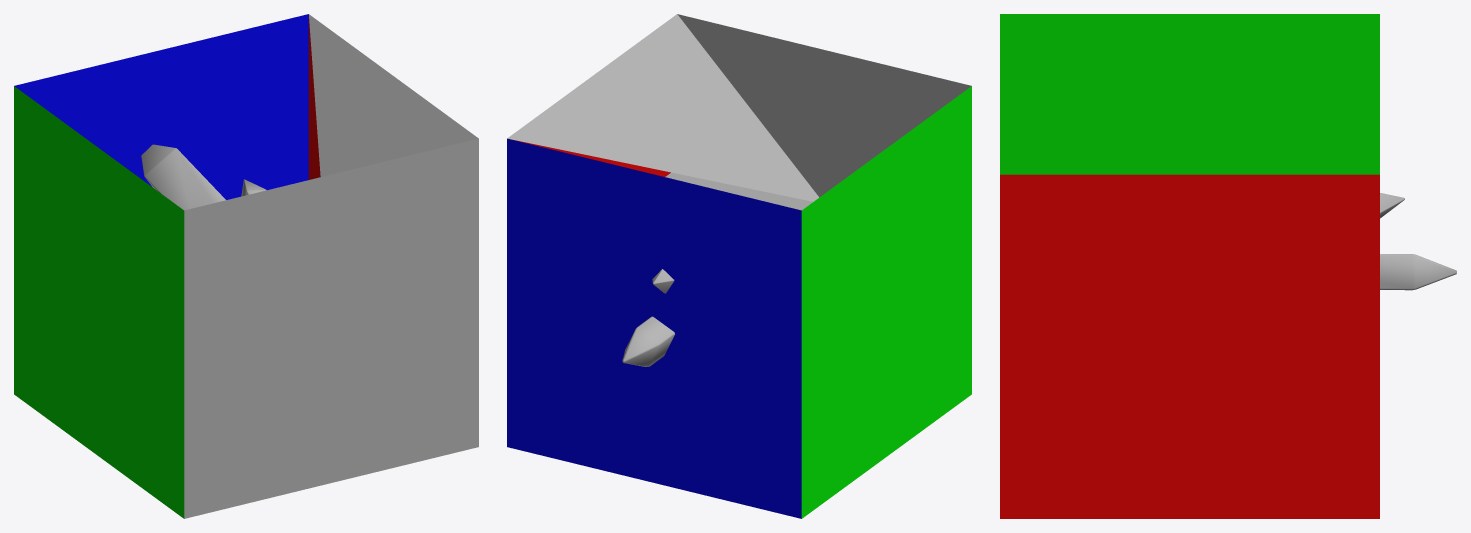
3 views of the same model, side by side, from view 1: azimuth 30°, elevation 25°; view 2: azimuth 150°, elevation 25°; view 3: azimuth 270°, elevation 25° (orthographic). The views are drawn at different scales.
Parts seen in each view (by area): view 1: back_wall, green_wall, front_wall, ceiling, object 7, red_wall; view 2: front_wall, green_wall, ceiling, back_wall, object 7, floor, red_wall; view 3: red_wall, green_wall, object 7.
Part boxes in pixels (box(x1,y1,x2,y2)): back_wall: box(184, 138, 478, 518); green_wall: box(14, 86, 184, 518); front_wall: box(14, 14, 308, 199); ceiling: box(308, 14, 478, 176); object 7: box(141, 144, 266, 210); red_wall: box(308, 15, 320, 179); front_wall: box(507, 138, 801, 518); green_wall: box(801, 86, 971, 518); ceiling: box(507, 14, 818, 201); back_wall: box(677, 14, 971, 197); object 7: box(622, 269, 674, 366); floor: box(665, 172, 812, 210); red_wall: box(509, 139, 670, 176); red_wall: box(1000, 174, 1379, 518); green_wall: box(1000, 14, 1379, 174); object 7: box(1380, 193, 1456, 290).
Size of the model in its own units: 60 by 60 by 72.15.
